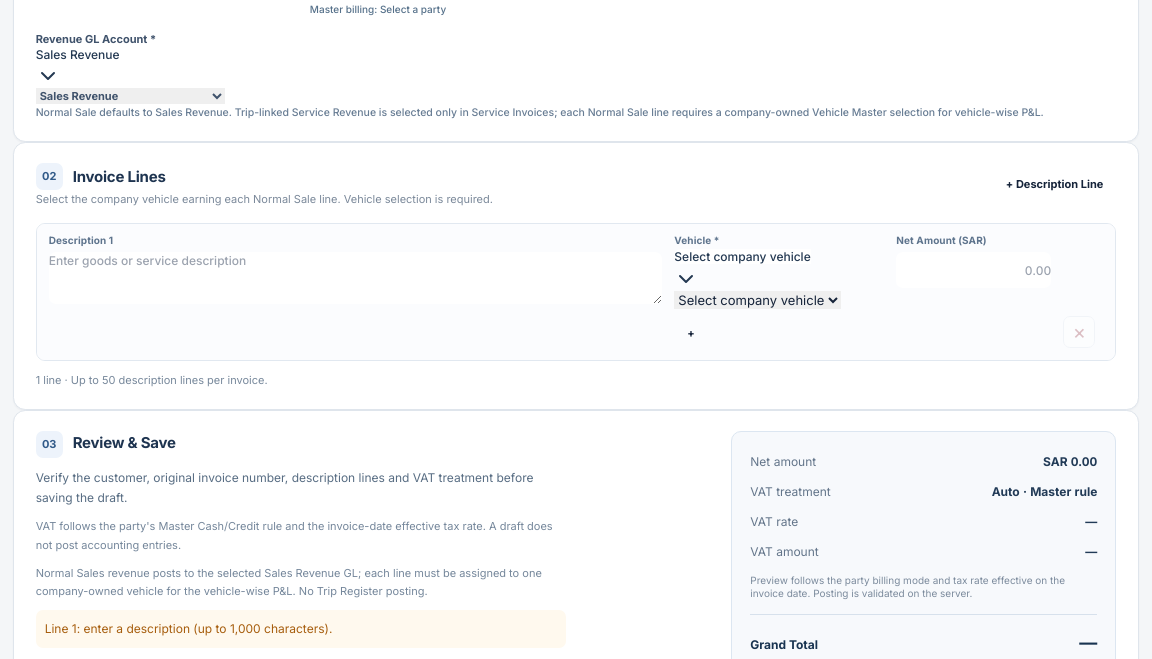
Normal Transport Sales and Purchase UI, without Trip linkage › keeps ledger posting untouched by the read-only preview
The width and height of the screenshot is (1152, 659).
(page scrolled)
expect the dropdown named "Normal invoice ledger account" shows "Sales Revenue": met, box [36,88,225,104]
Select "7979" in the dropdown named "Vehicle 1": (758, 300) [674,291,841,309]
(page scrolled)
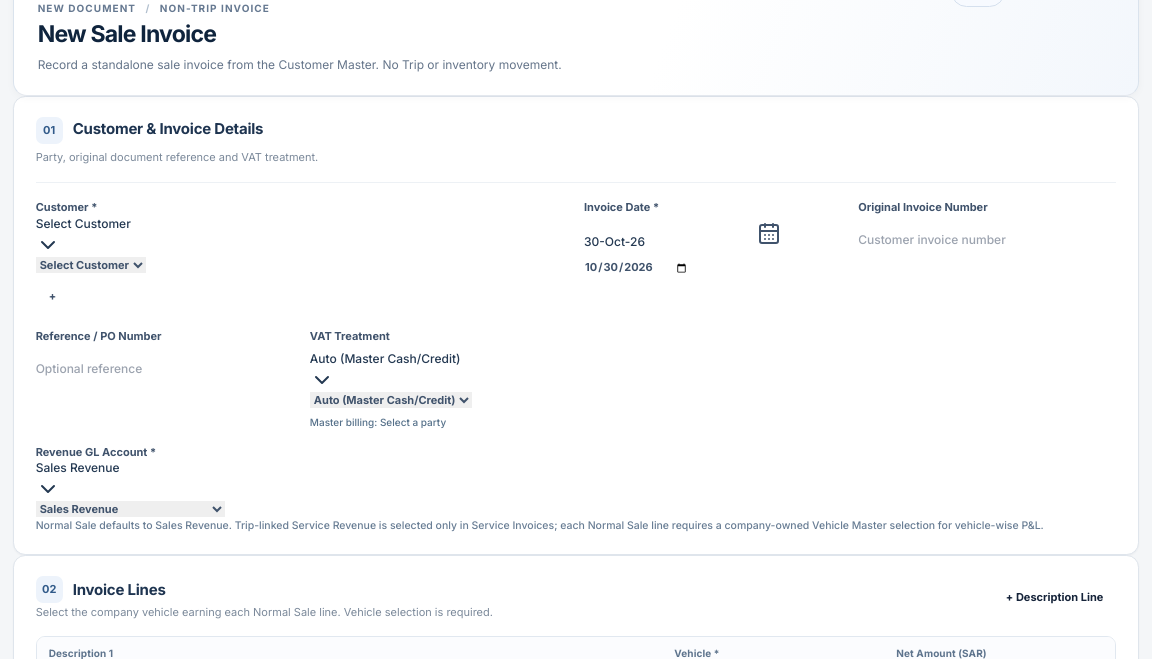
Select "Master a" in the dropdown named "Normal invoice customer": (91, 265) [36,257,146,273]
(page scrolled)
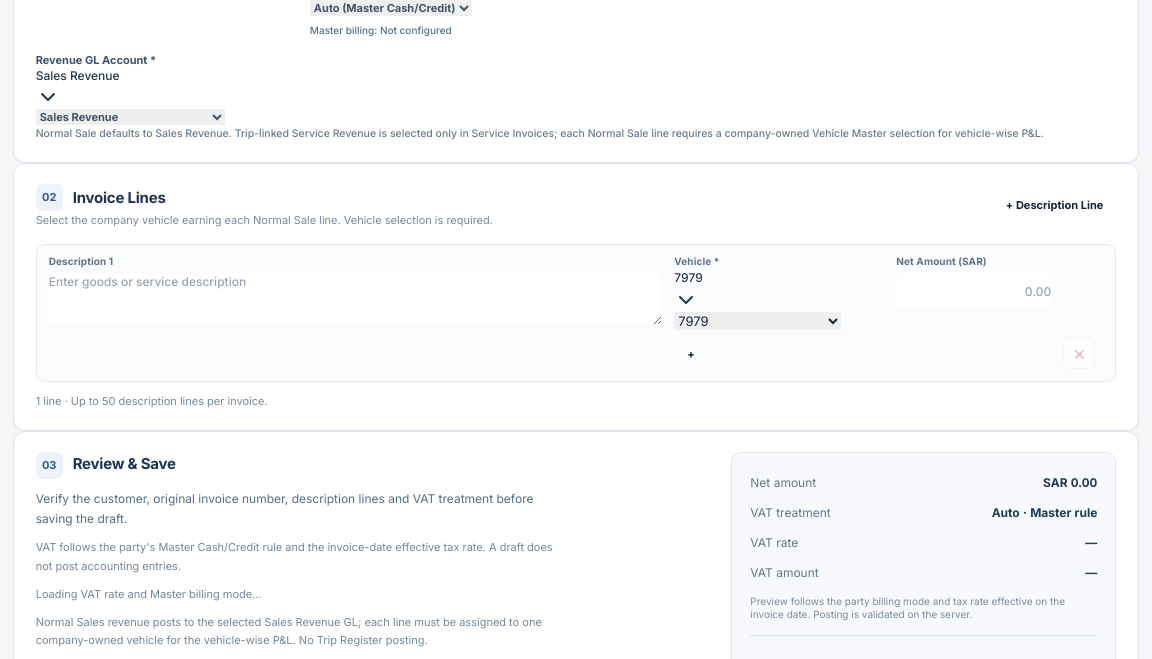
In the text box labelled "Description 1": (356, 299) [49,273,662,325], type "Revenue"
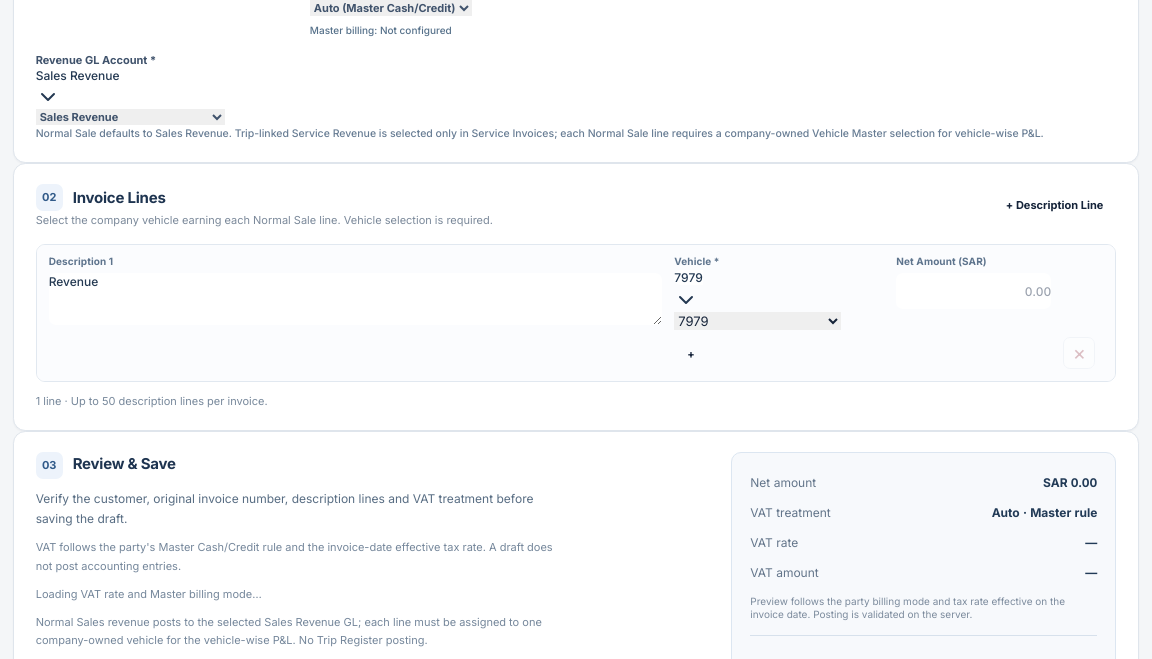
In the field named "Amount 1": (974, 291) [896,273,1051,309], type "100"
(page scrolled)
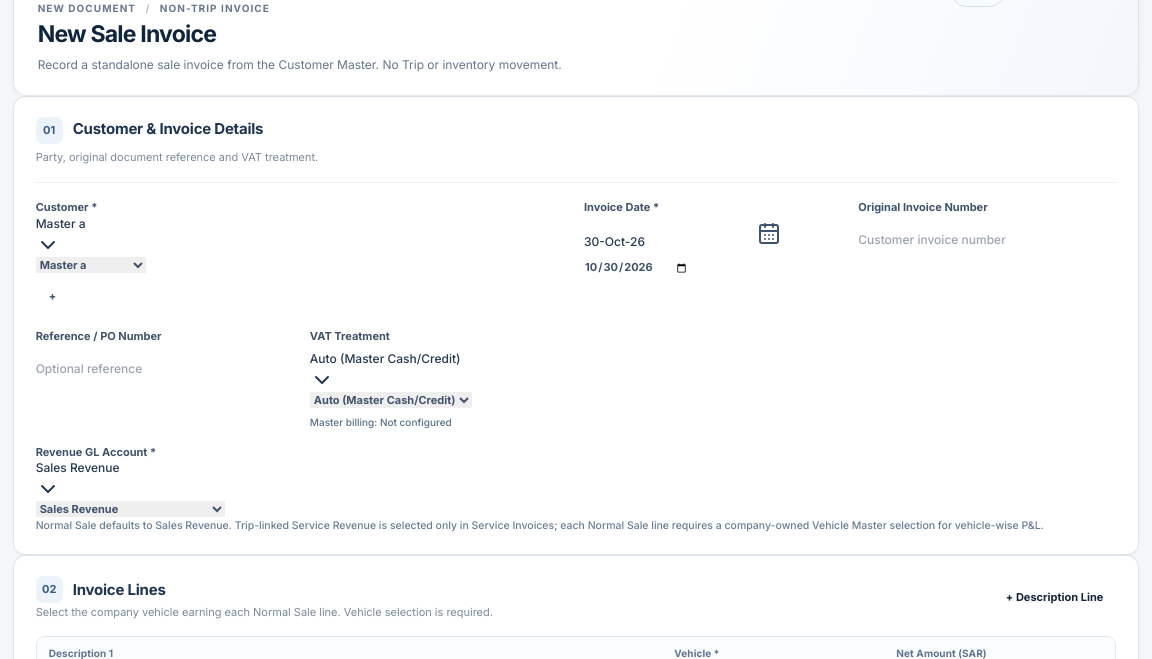
In the field named "Normal invoice number": (987, 240) [858,222,1116,258], type "TEST-DRAFT-001"
(page scrolled)
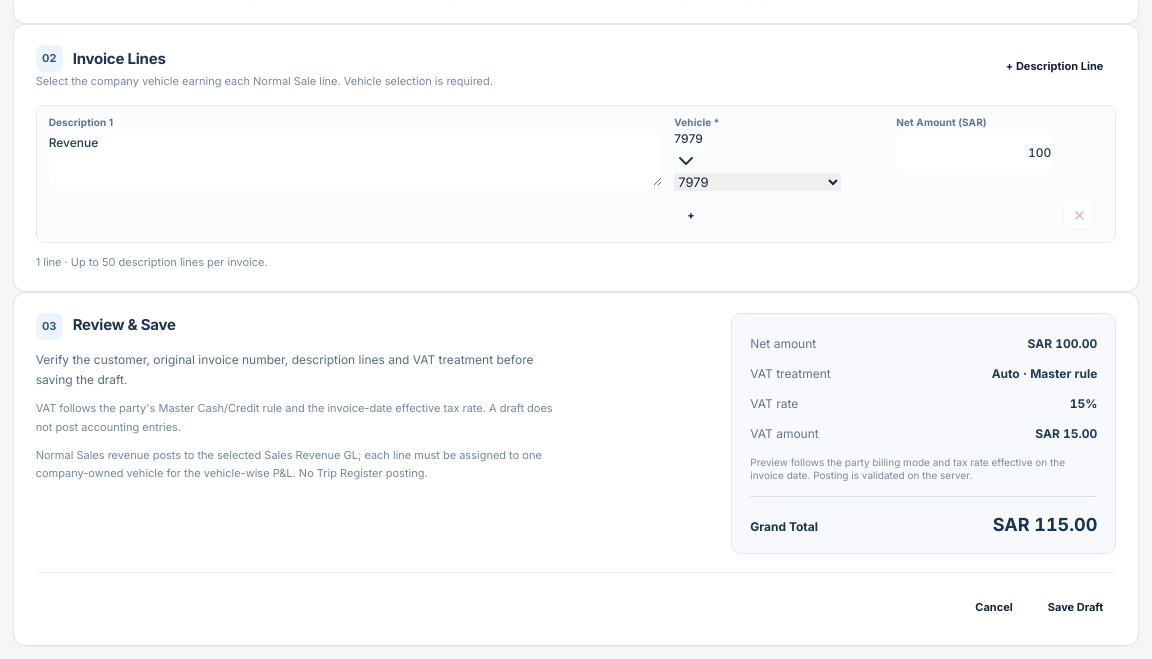
expect the button "Save Draft" is enabled: met
Click the button "Save Draft": click(1076, 607) [1035,590,1116,625]
(page scrolled)
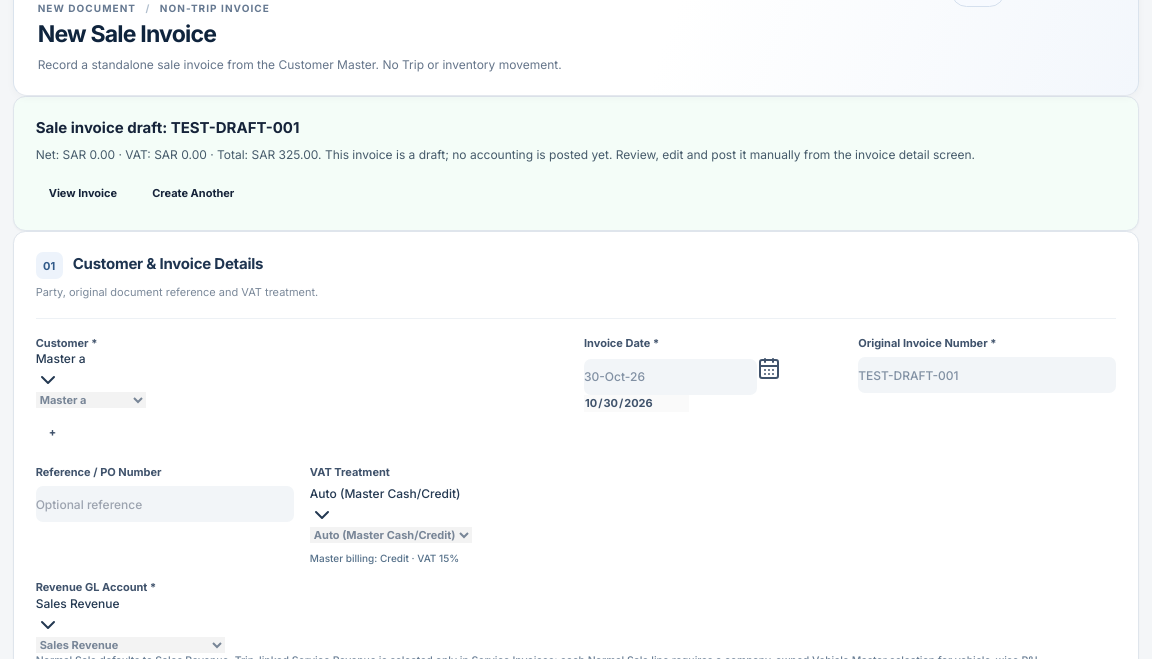
expect the heading "Sale invoice draft: TEST-DRAFT-001" is shown: met, box [36,118,300,137]
